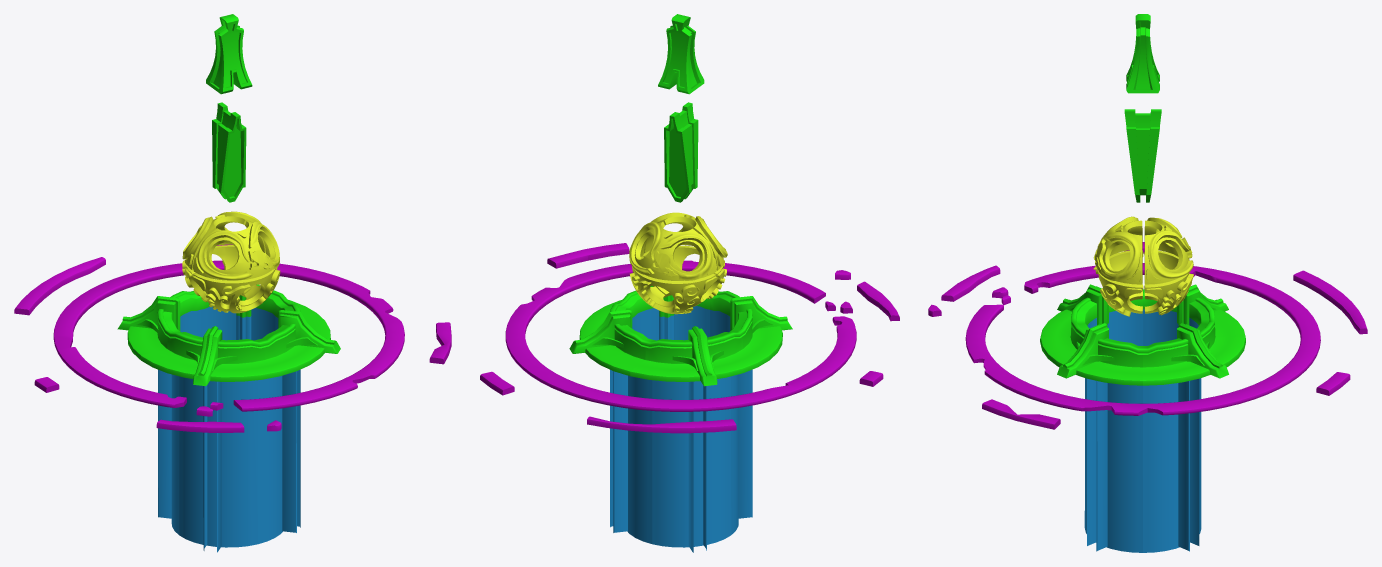
File: SM_Altar.FBX
3 views of the same model, side by side, from view 1: azimuth 30°, elevation 25°; view 2: azimuth 150°, elevation 25°; view 3: azimuth 270°, elevation 25° (orthographic).
Visible parts, largest first — view 1: Hole, OuterRIm, OuterRim02, UpperSphere_01, LowerPiece_low, UpperPiece_low, LowerSphere_01, UpperSphere_02, LowerSphere_02; view 2: Hole, OuterRIm, OuterRim02, UpperSphere_02, LowerPiece_low, UpperPiece_low, LowerSphere_02, UpperSphere_01, LowerSphere_01; view 3: Hole, OuterRIm, OuterRim02, LowerPiece_low, UpperSphere_02, UpperSphere_01, UpperPiece_low, LowerSphere_01, LowerSphere_02.
Boxes of the visible parts, x1,y1,x2,y2 form: Hole: [117, 284, 340, 552]; OuterRIm: [53, 260, 404, 411]; OuterRim02: [14, 244, 451, 432]; UpperSphere_01: [193, 221, 279, 280]; LowerPiece_low: [212, 102, 246, 202]; UpperPiece_low: [206, 14, 252, 94]; LowerSphere_01: [192, 255, 280, 313]; UpperSphere_02: [182, 211, 265, 270]; LowerSphere_02: [182, 245, 267, 302]; Hole: [569, 286, 792, 552]; OuterRIm: [505, 260, 856, 411]; OuterRim02: [480, 243, 899, 433]; UpperSphere_02: [629, 221, 716, 280]; LowerPiece_low: [664, 102, 698, 202]; UpperPiece_low: [658, 14, 704, 94]; LowerSphere_02: [630, 256, 717, 314]; UpperSphere_01: [644, 212, 727, 270]; LowerSphere_01: [642, 245, 726, 300]; Hole: [1040, 284, 1245, 552]; OuterRIm: [965, 263, 1320, 415]; OuterRim02: [928, 242, 1367, 429]; LowerPiece_low: [1124, 109, 1161, 202]; UpperSphere_02: [1144, 217, 1193, 284]; UpperSphere_01: [1093, 216, 1142, 284]; UpperPiece_low: [1126, 14, 1159, 93]; LowerSphere_01: [1093, 250, 1143, 316]; LowerSphere_02: [1144, 250, 1193, 315].
Size of the model in its own units: 929 by 1211 by 944.
